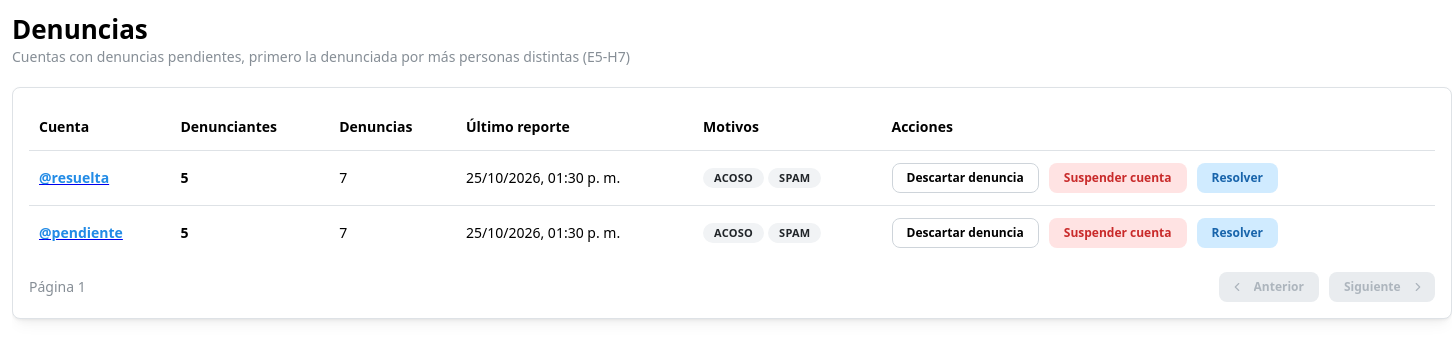
Scenario: ModerationPage › E5-H7.CA3 - resolve removes the row
Check: the text "@resuelta" is shown, box [39, 168, 109, 187]
Click the button "Resolver" in the row of "@resuelta": {"x": 1237, "y": 178} [1196, 163, 1278, 193]
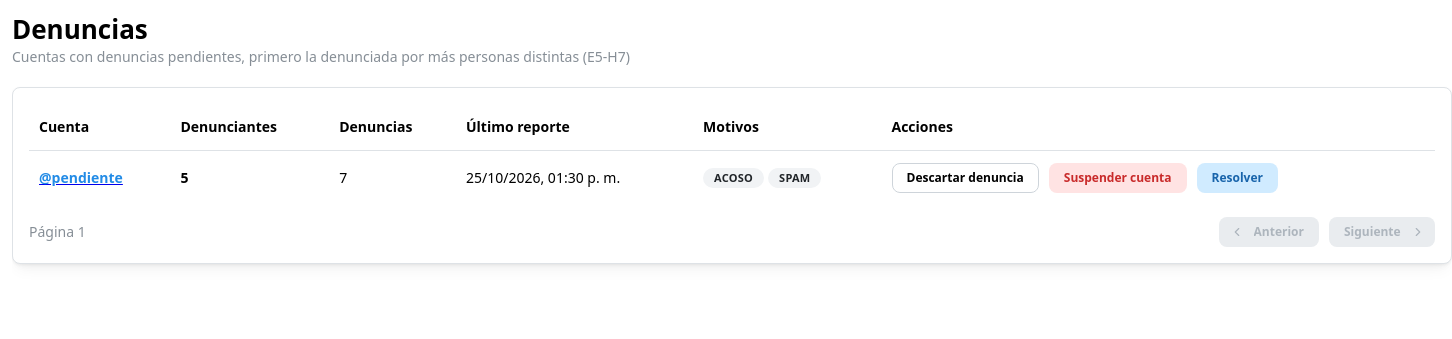
Check: the text "@pendiente" is shown, box [39, 168, 123, 187]
Check: the link "@resuelta" is gone
